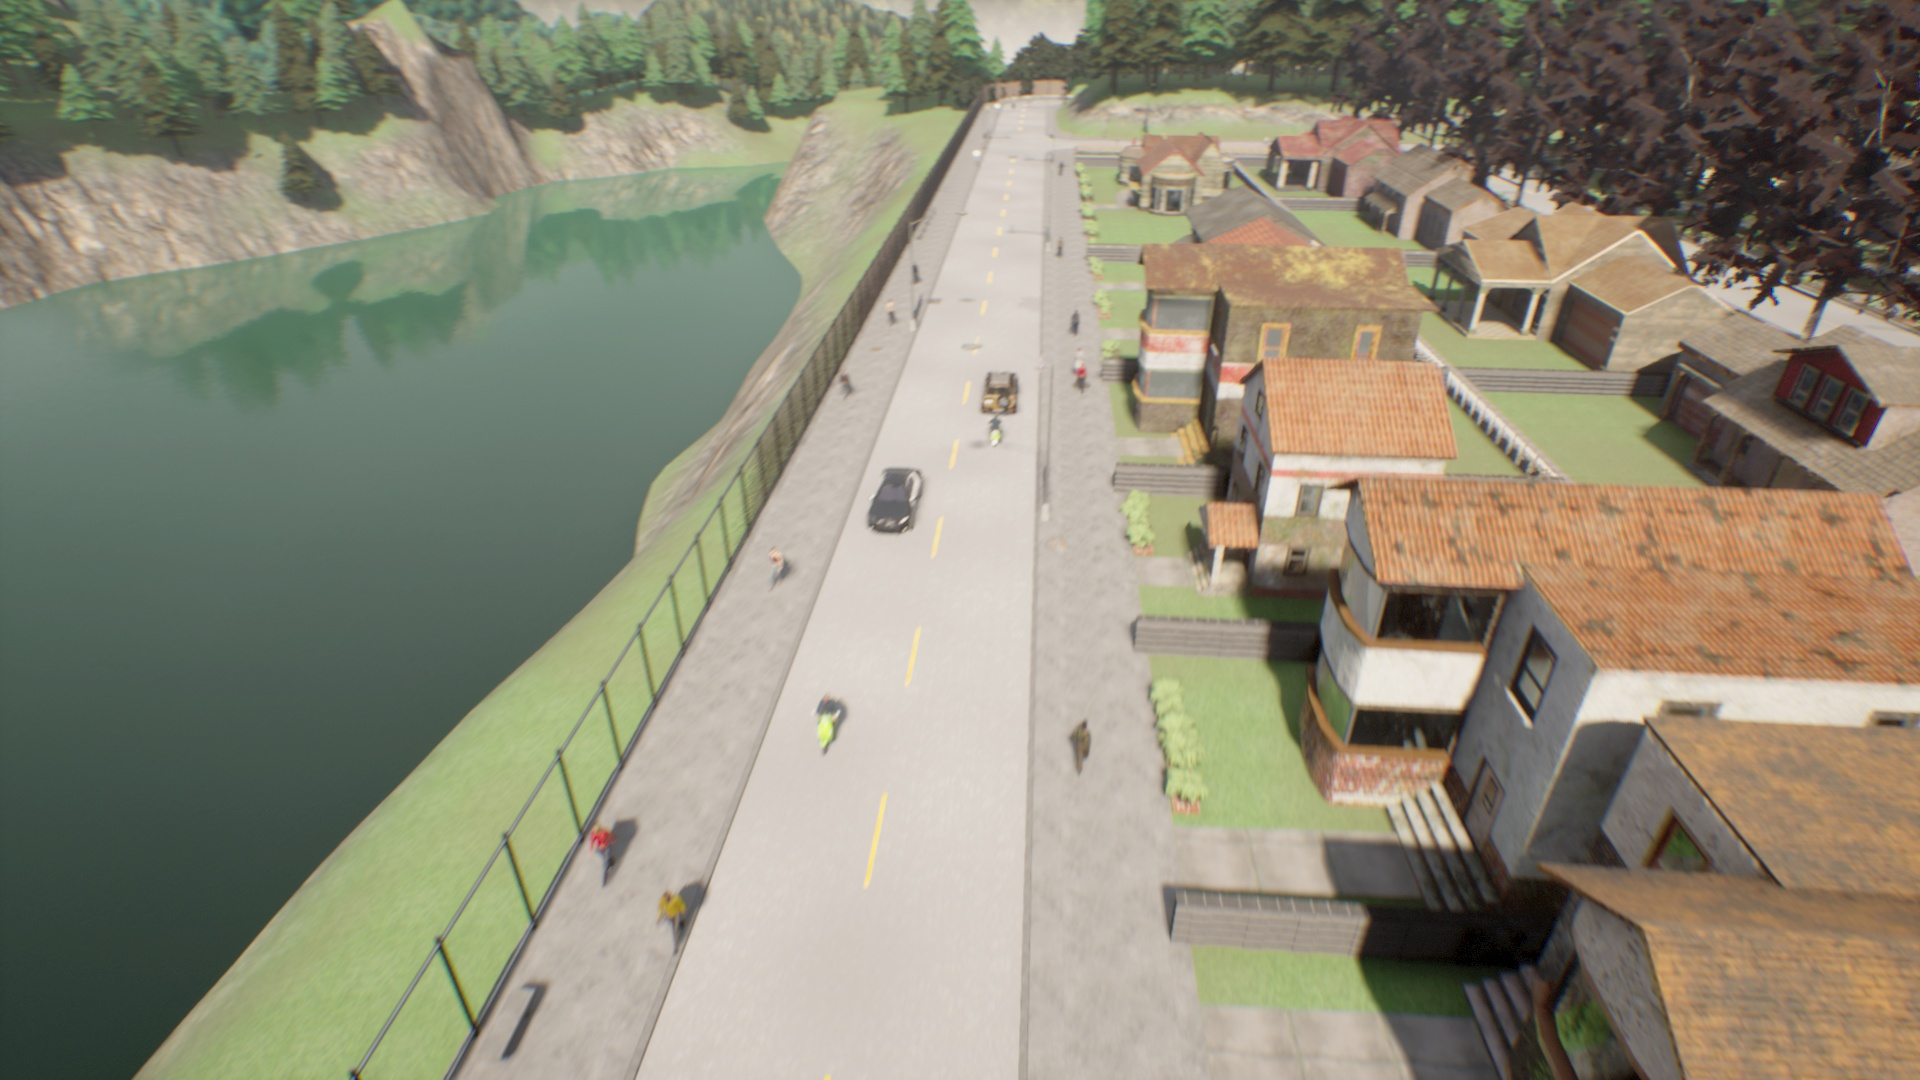Car: (866, 463, 924, 538), (979, 364, 1022, 415)
Motorcycle: (808, 691, 852, 760), (984, 417, 1007, 447)
